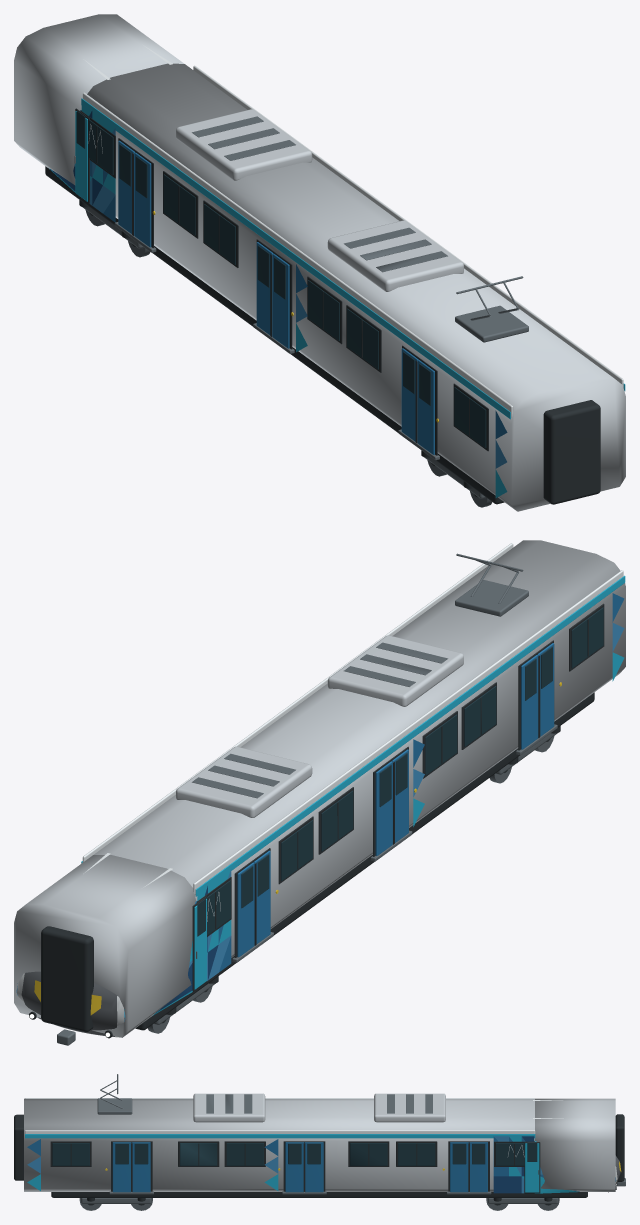
Rendered from melbourne-commuter.glb.
The picture shows the model from 3 angles, top to bottom: view 1: azimuth 30°, elevation 25°; view 2: azimuth 150°, elevation 25°; view 3: azimuth 270°, elevation 25°; orthographic projection. The views are drawn at different scales.
Parts seen in each view (by area): view 1: car_brushed_aluminium, trailer_brushed_aluminium, car_rubber, car_bogie_steel, car_window_glass, car_ceramic_white, car_livery_cyan, door_L_0.57_plus_leaf, door_L_7.07_plus_leaf, door_L_-5.62_plus_leaf, nose_livery_cyan, door_L_0.57_minus_leaf (+3 smaller); view 2: car_brushed_aluminium, trailer_brushed_aluminium, car_bogie_steel, car_rubber, car_window_glass, car_ceramic_white, trailer_rubber, car_livery_cyan, nose_nose_graphite, door_L_0.57_minus_leaf, door_L_-5.62_minus_leaf, door_L_7.07_minus_leaf (+5 smaller); view 3: car_brushed_aluminium, trailer_brushed_aluminium, car_rubber, car_window_glass, car_bogie_steel, car_livery_cyan, car_ceramic_white, door_R_0.57_minus_leaf, door_R_0.57_plus_leaf, door_R_7.07_plus_leaf, door_R_7.07_minus_leaf, door_R_-5.62_plus_leaf (+9 smaller).
Boxes of the visible parts, x1,y1,x2,y2 form: car_brushed_aluminium: (87,63,625,511); trailer_brushed_aluminium: (14,14,184,185); car_rubber: (45,138,600,504); car_bogie_steel: (82,116,528,507); car_window_glass: (163,174,486,448); car_ceramic_white: (82,65,623,417); car_livery_cyan: (81,98,625,497); door_L_0.57_plus_leaf: (271,253,289,348); door_L_7.07_plus_leaf: (416,360,434,454); door_L_-5.62_plus_leaf: (133,152,151,247); nose_livery_cyan: (49,103,115,201); door_L_0.57_minus_leaf: (256,242,273,336); car_brushed_aluminium: (94,540,625,957); trailer_brushed_aluminium: (14,855,195,1037); car_bogie_steel: (57,553,557,1045); car_rubber: (135,603,604,1030); car_window_glass: (281,607,603,880); car_ceramic_white: (82,543,623,894); trailer_rubber: (41,877,231,1032); car_livery_cyan: (81,575,625,896); nose_nose_graphite: (21,971,117,1036); door_L_0.57_minus_leaf: (375,761,393,855); door_L_-5.62_minus_leaf: (237,862,255,957); door_L_7.07_minus_leaf: (521,655,539,749); car_brushed_aluminium: (24,1093,534,1191); trailer_brushed_aluminium: (535,1098,615,1191); car_rubber: (14,1114,587,1205); car_window_glass: (52,1143,435,1165); car_bogie_steel: (79,1074,625,1210); car_livery_cyan: (25,1134,535,1190); car_ceramic_white: (25,1098,535,1133); door_R_0.57_minus_leaf: (304,1142,323,1192); door_R_0.57_plus_leaf: (285,1142,304,1192); door_R_7.07_plus_leaf: (112,1142,131,1192); door_R_7.07_minus_leaf: (132,1142,150,1192); door_R_-5.62_plus_leaf: (450,1142,468,1192).
Size of the model in its own units: 3.2 by 4.88 by 23.03.
